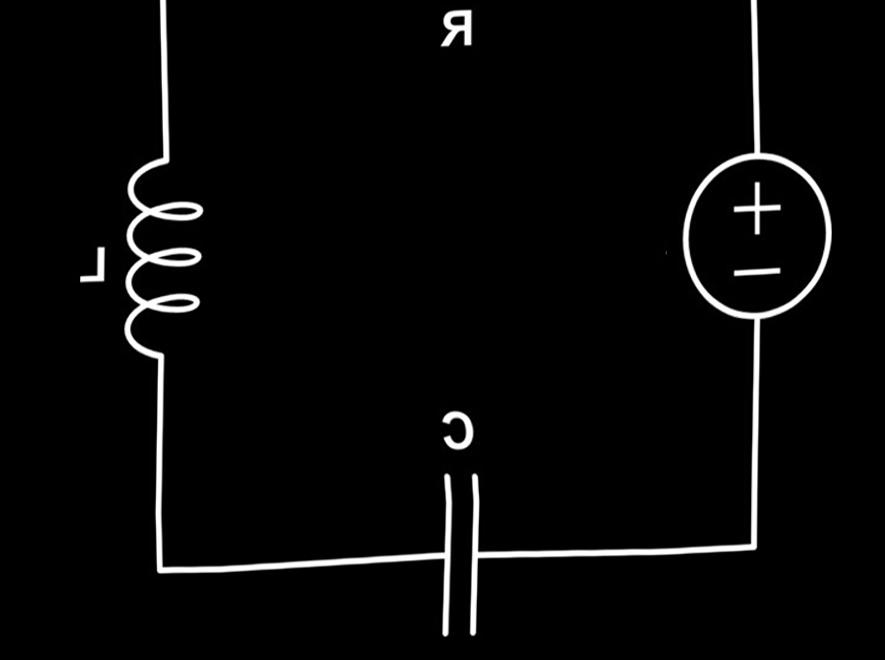Battery: (649, 128, 867, 352)
